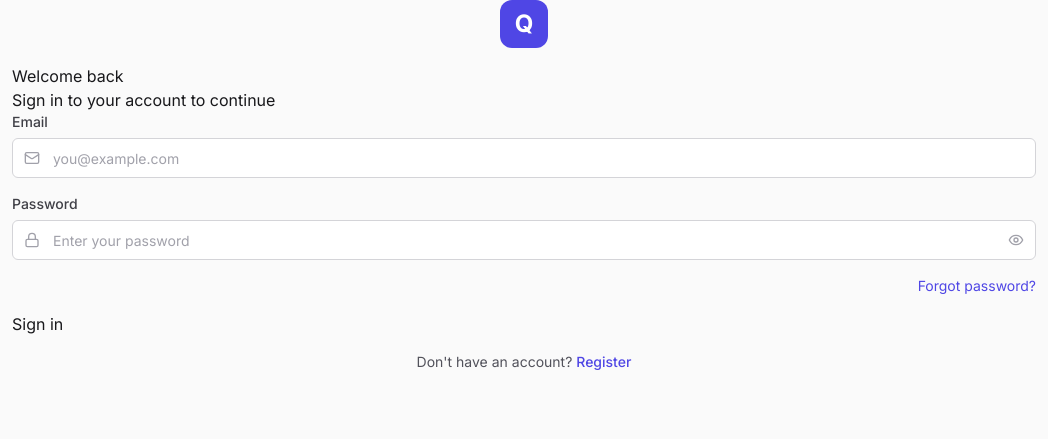
it: LoginForm › shows validation error for invalid email
Type "invalid-email" into the field labelled "Email".
click(524, 158); type("invalid-email")  # box x1=12 y1=138 x2=1036 y2=178
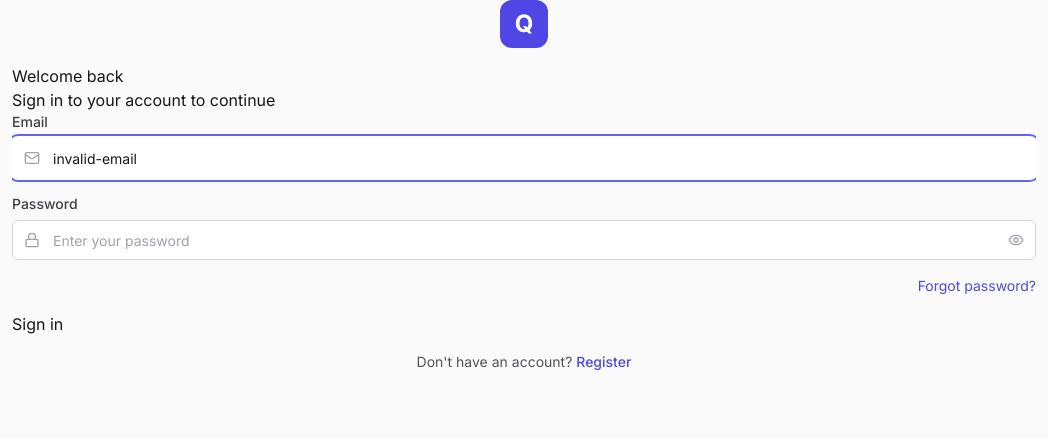
Press Tab
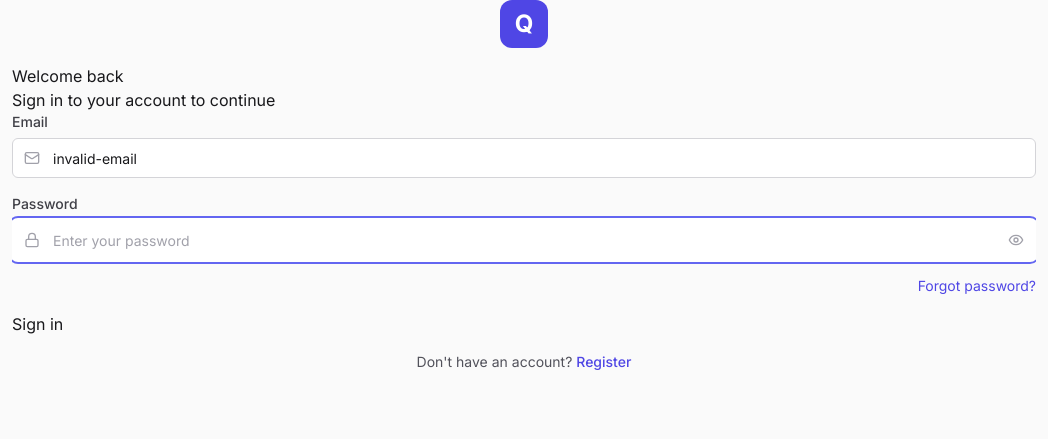
Click the button "Sign in".
click(38, 324)  # box x1=12 y1=312 x2=63 y2=336
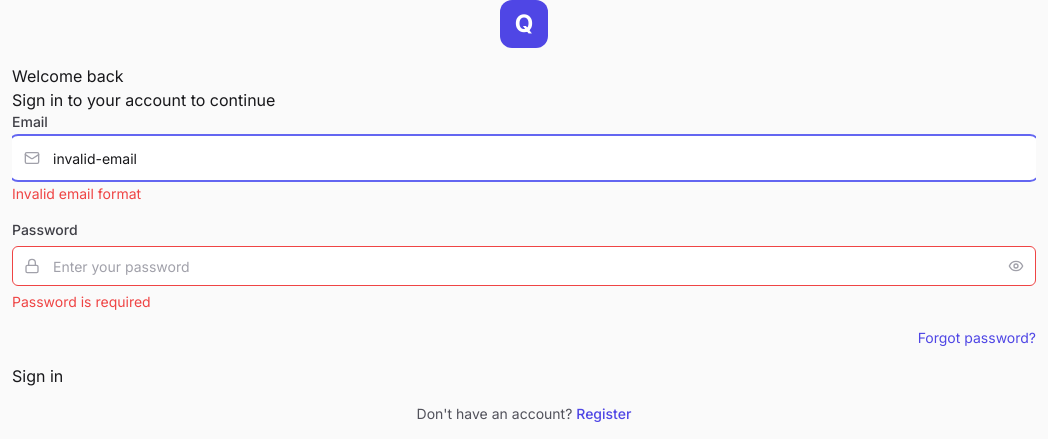
Expected: the text "Invalid email format" is shown, x1=12 y1=185 x2=141 y2=202
